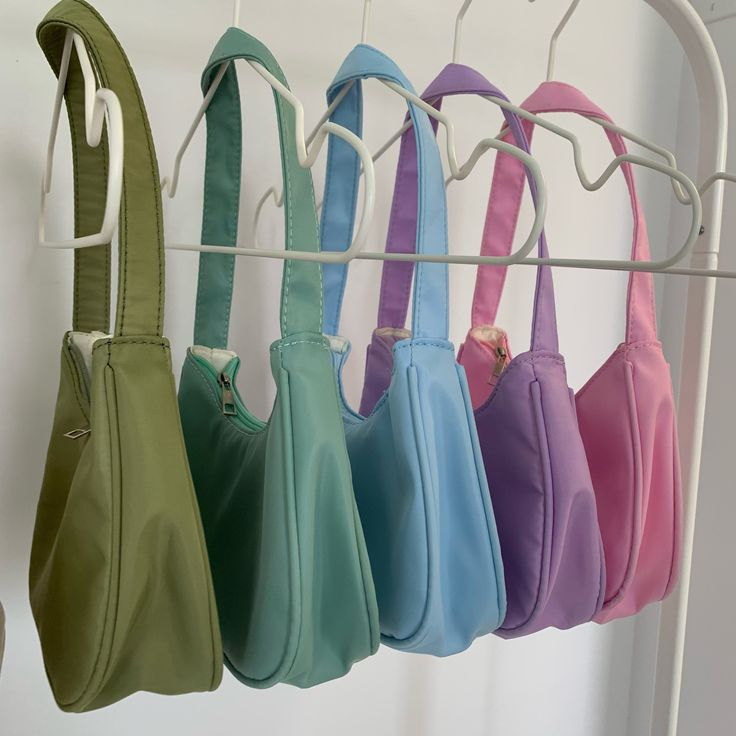nylon: (28, 1, 685, 713)
